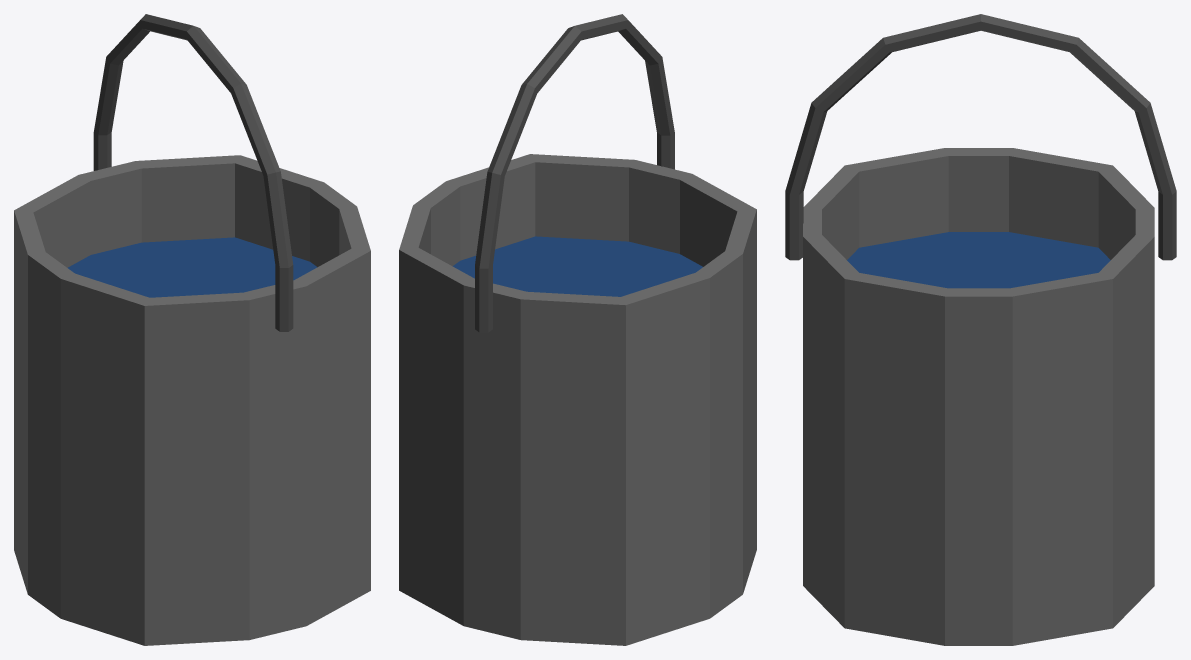
The picture shows the model from 3 angles, left to right: view 1: azimuth 30°, elevation 25°; view 2: azimuth 150°, elevation 25°; view 3: azimuth 270°, elevation 25°; orthographic projection. The views are drawn at different scales.
Visible parts, largest first — view 1: G-27, Torus.007; view 2: G-27, Torus.007; view 3: G-27, Torus.007.
Boxes of the visible parts, x1,y1,x2,y2 form: G-27: (14,155,370,645); Torus.007: (93,14,293,331); G-27: (399,154,756,645); Torus.007: (475,14,674,332); G-27: (803,148,1154,645); Torus.007: (785,14,1176,260).
Bounding box in the file's own units: 53.43 × 93.64 × 59.48.
